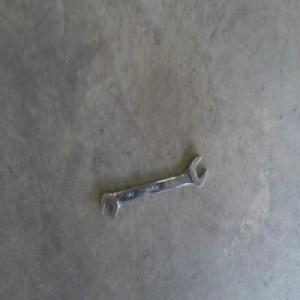Wrench: (101, 157, 207, 222)
